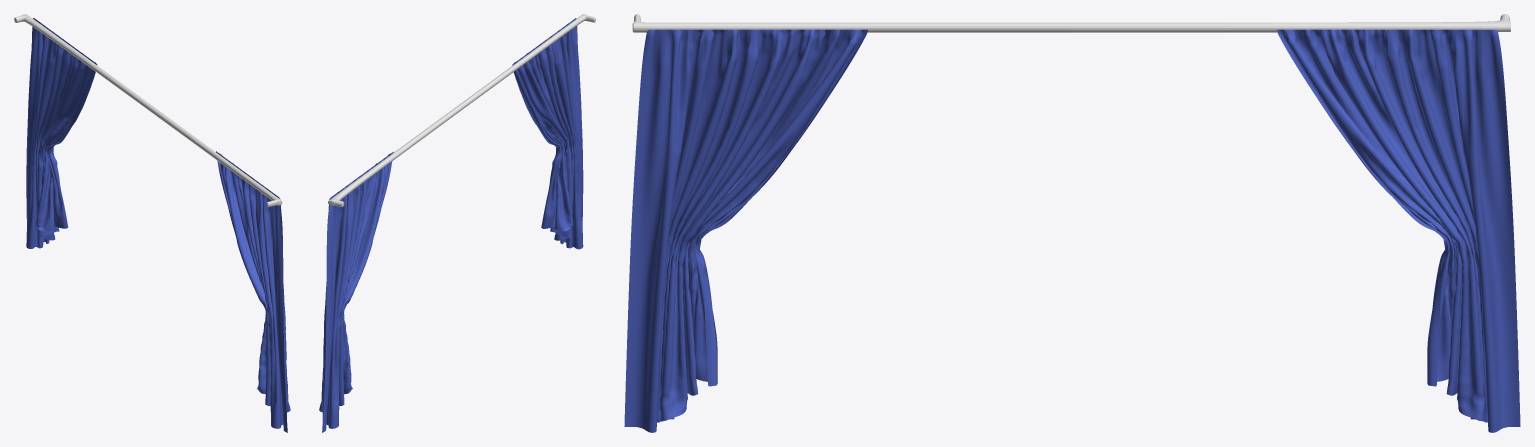
The model's file is window.fbx.
The picture shows the model from 3 angles, left to right: view 1: azimuth 30°, elevation 25°; view 2: azimuth 150°, elevation 25°; view 3: azimuth 270°, elevation 25°; orthographic projection. The views are drawn at different scales.
Parts seen in each view (by area): view 1: Curtain right, Curtain_left, Window Railing; view 2: Curtain_left, Curtain right, Window Railing; view 3: Curtain right, Curtain_left, Window Railing.
Part boxes in pixels (<box>): Curtain right: <box>26,18,97,248</box>; Curtain_left: <box>216,151,290,432</box>; Window Railing: <box>14,14,282,207</box>; Curtain_left: <box>512,18,583,249</box>; Curtain right: <box>319,151,393,432</box>; Window Railing: <box>328,14,595,206</box>; Curtain right: <box>1277,29,1520,432</box>; Curtain_left: <box>624,29,867,432</box>; Window Railing: <box>632,14,1510,32</box>.
Size of the model in its own units: 24.14 by 167 by 340.
